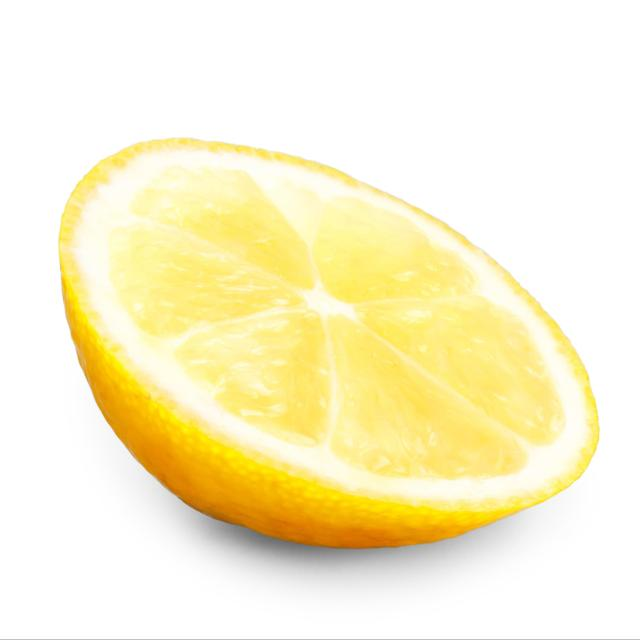lemon: (44, 125, 605, 568)
